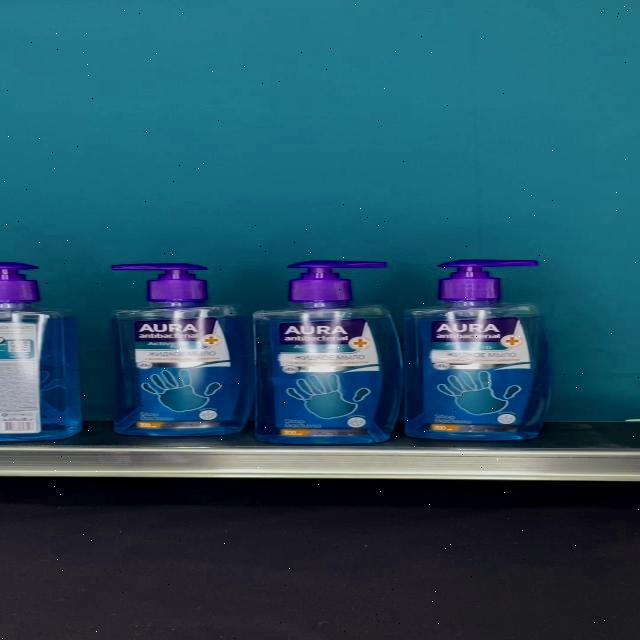Bottle: (254, 261, 403, 444), (402, 259, 550, 441), (110, 263, 254, 435)
Cap: (436, 259, 538, 303), (288, 261, 390, 303), (113, 262, 208, 300)
